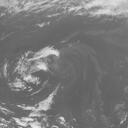cyclone: (12, 47, 58, 93)
